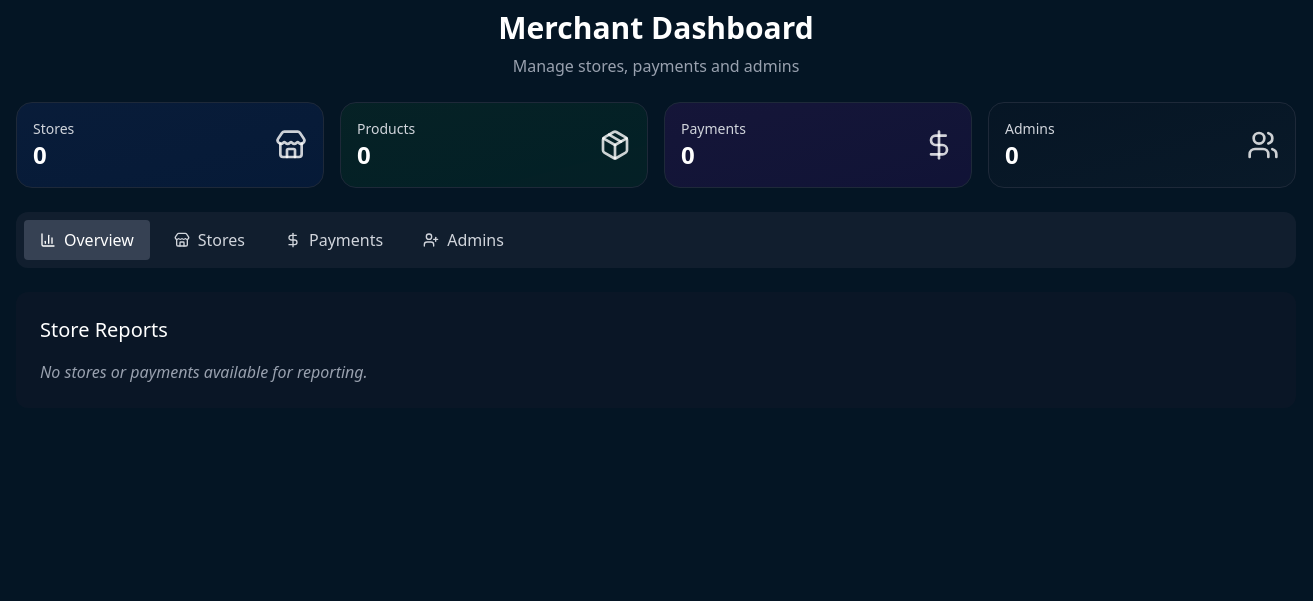
MerchantDashboard › navigates to Stores tab
What coordinates should you click on to do the following:
click the button "Stores"
I would click on:
 (209, 240)
Its box is [158,220,261,260].
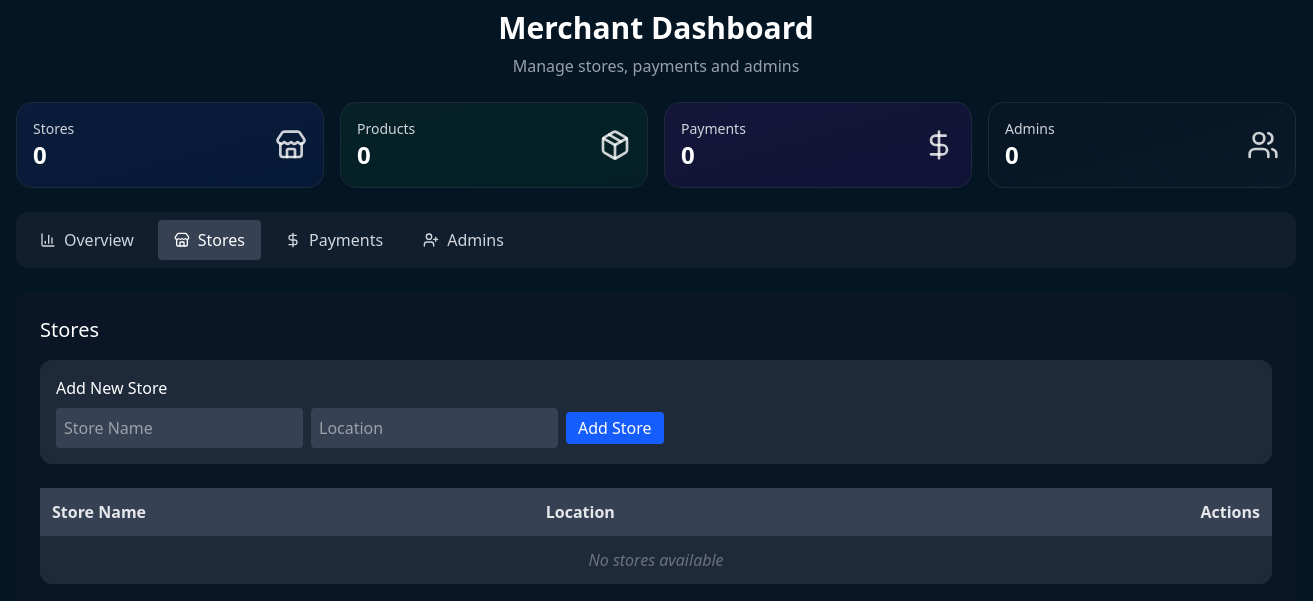
Check: the heading "Add New Store" is shown, box [56,377,167,399]
